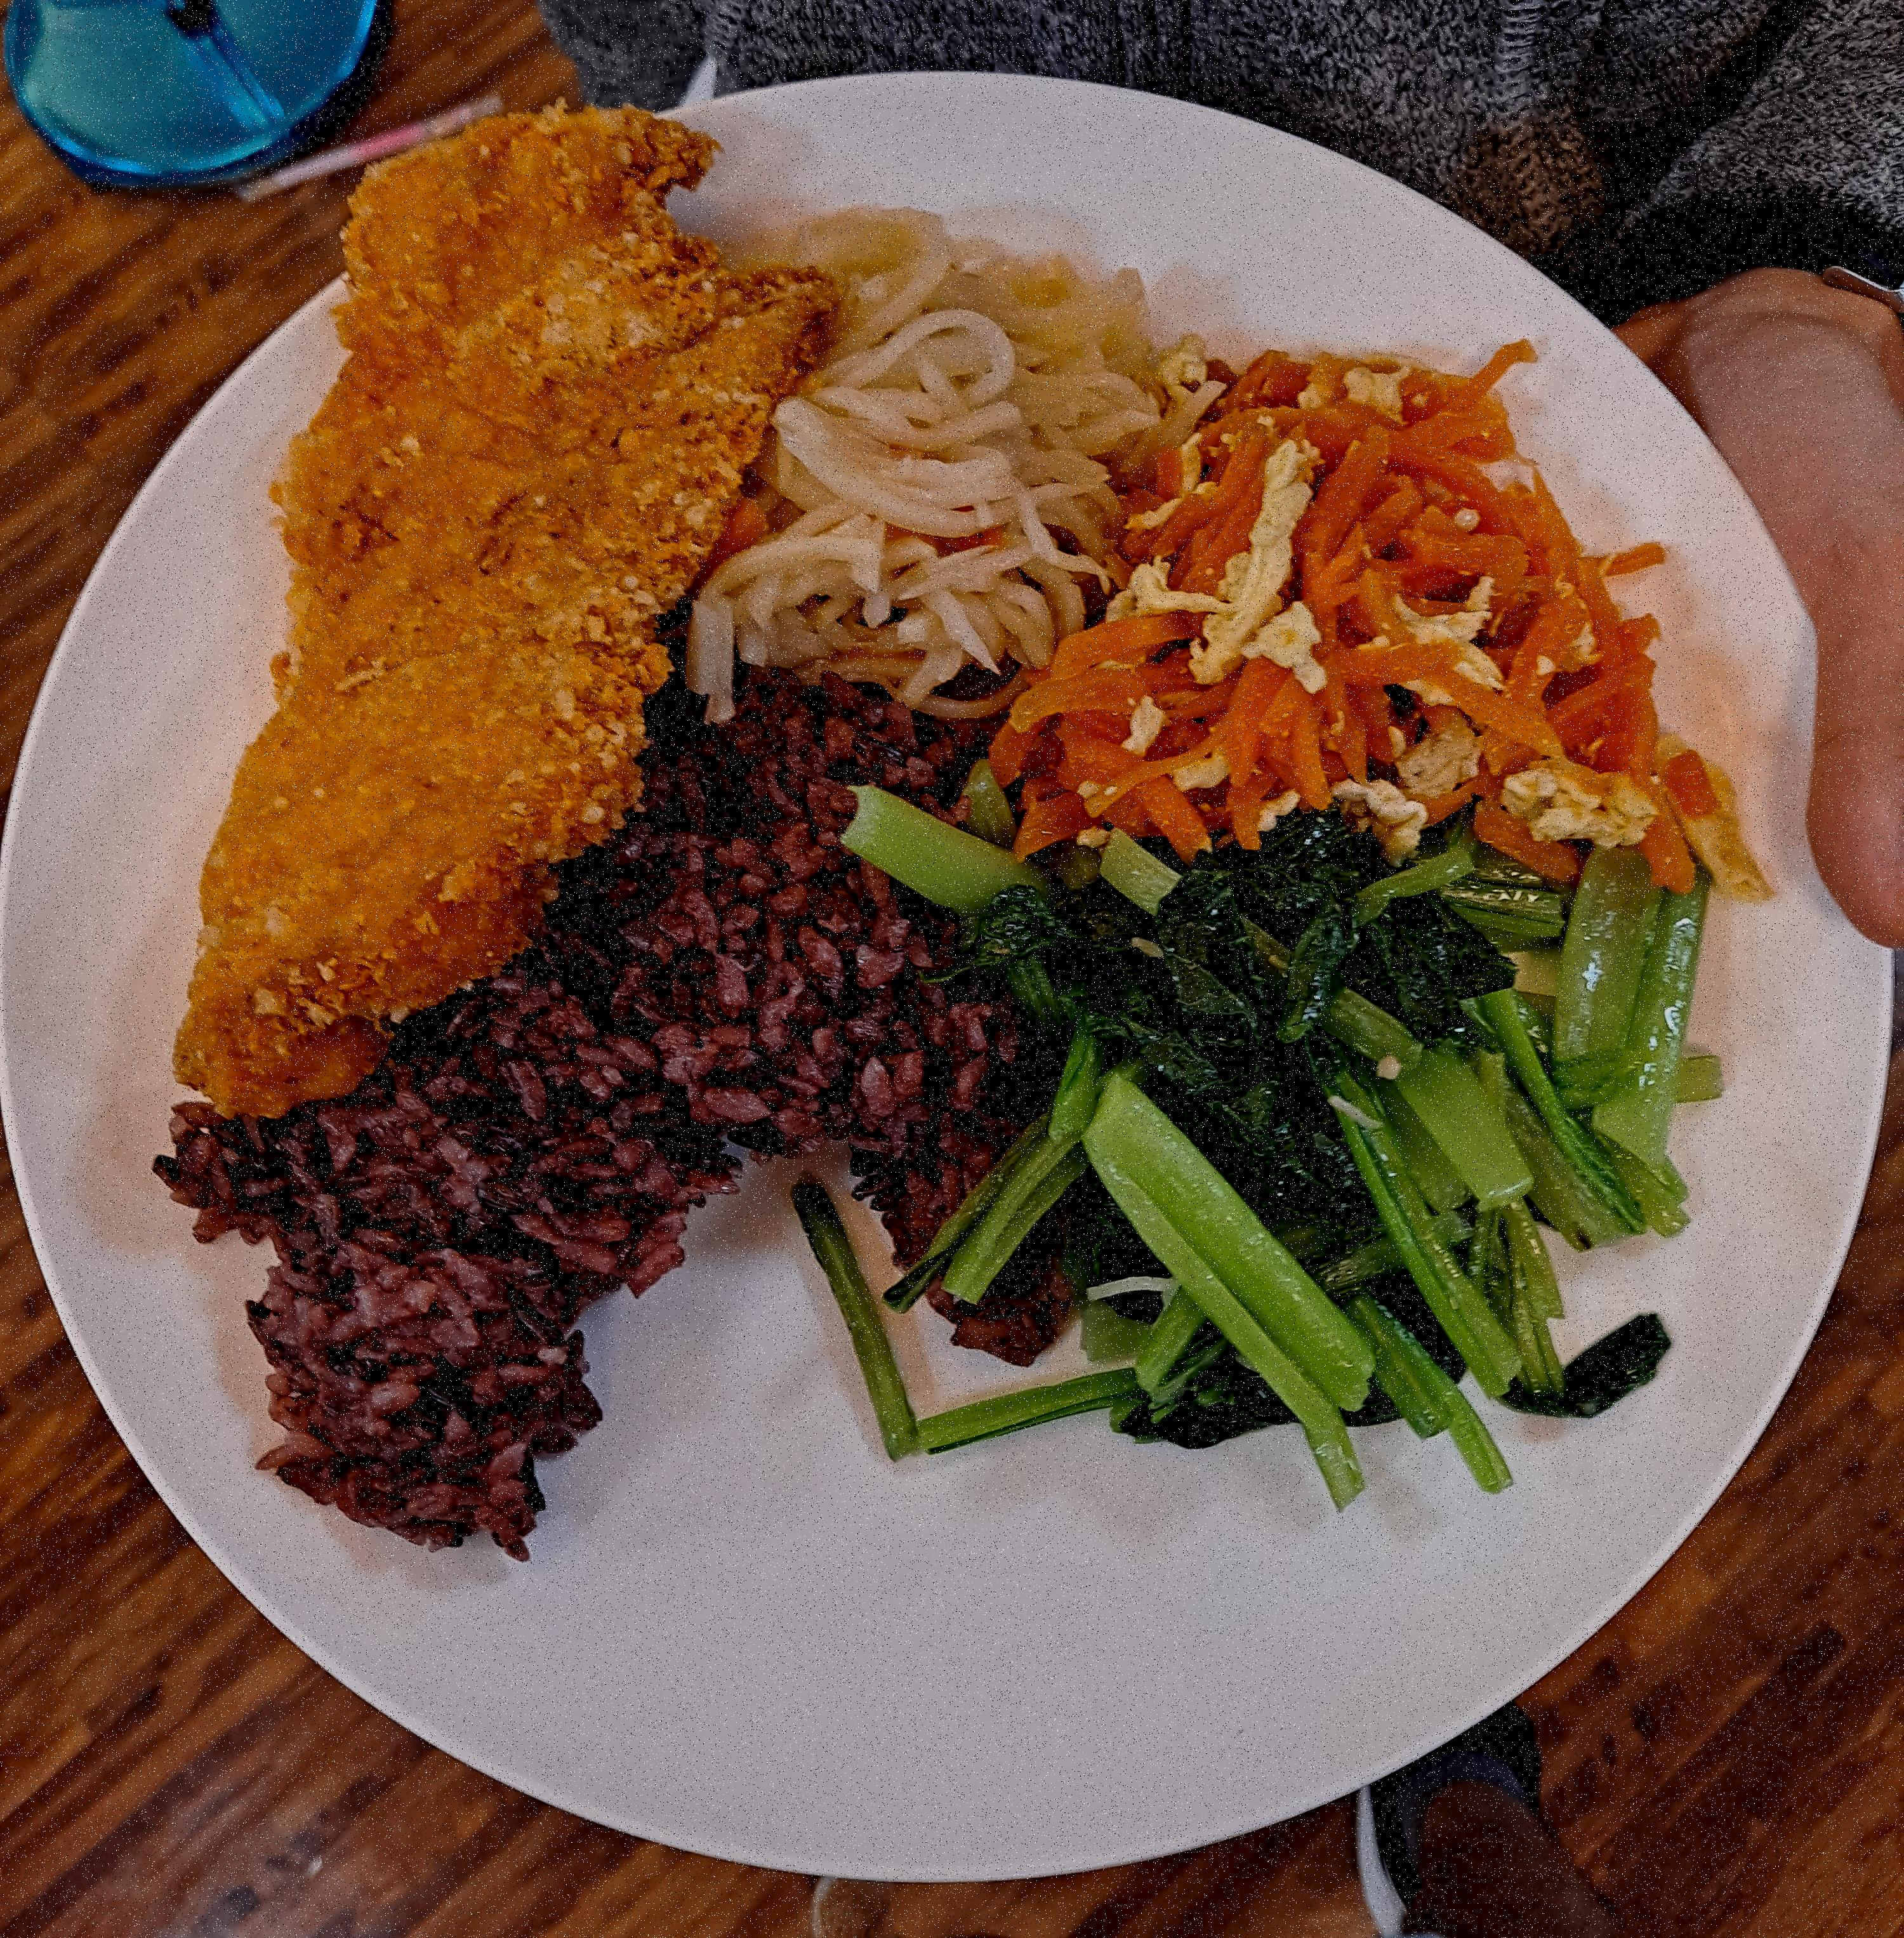chicken steak: (124, 91, 814, 1140)
plate: (26, 40, 1904, 1921)
purple rice: (133, 648, 1011, 1565)
side dish: (903, 802, 1752, 1480), (987, 324, 1697, 861), (677, 230, 1196, 734)
